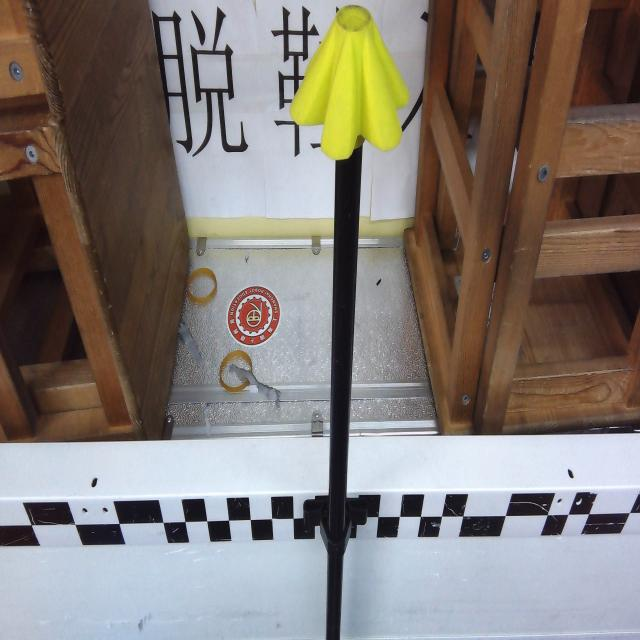Yellow-Stake-Head: (289, 2, 411, 162)
